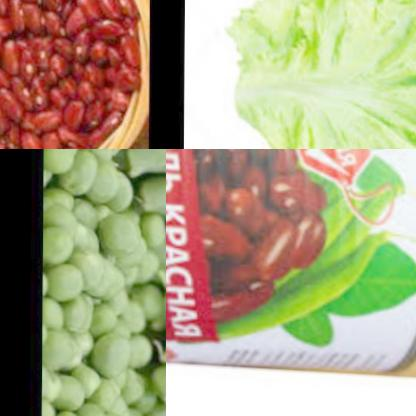fasol: (201, 149, 340, 295), (0, 0, 135, 149)
peas: (41, 149, 158, 416), (108, 149, 166, 416), (140, 209, 166, 247)
salad: (223, 0, 416, 149)
